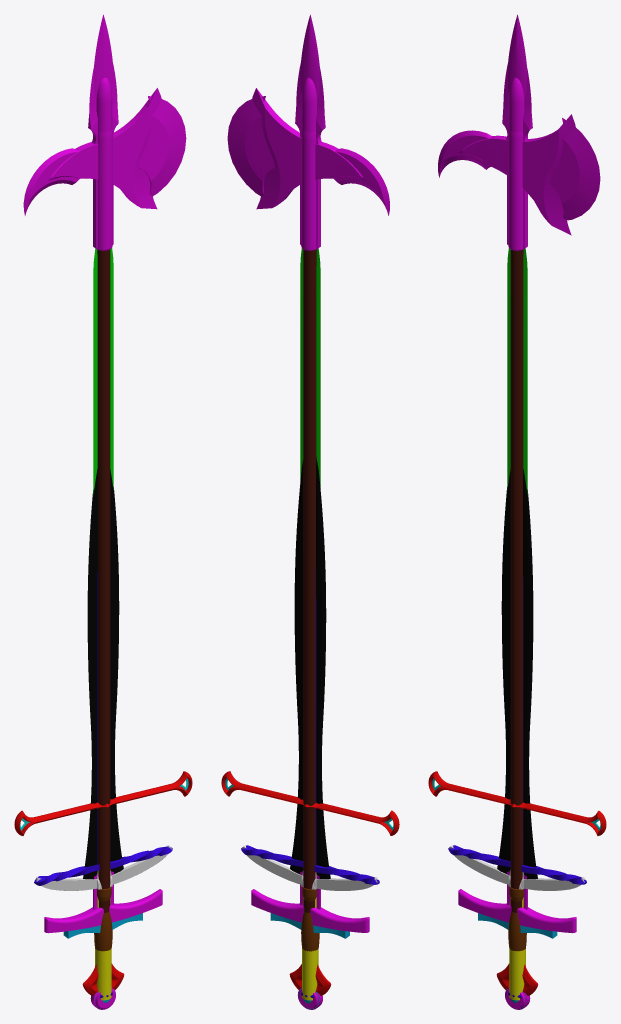
Rendered from Weapons.fbx.
3 renders of one model, left to right at view 1: azimuth 30°, elevation 25°; view 2: azimuth 150°, elevation 25°; view 3: azimuth 330°, elevation 25°, orthographic.
Parts seen in each view (by area): view 1: Halberd02, Sword05, Halberd01, Sword02, Sword03, Sword04, Sword01; view 2: Halberd02, Sword05, Halberd01, Sword02, Sword03, Sword04, Sword01; view 3: Halberd02, Sword05, Halberd01, Sword02, Sword03, Sword04, Sword01.
Part boxes in pixels (x1,y1,x2,y2): Halberd02: (23, 62, 186, 1000); Sword05: (36, 469, 172, 951); Halberd01: (48, 14, 161, 209); Sword02: (14, 248, 192, 995); Sword03: (44, 871, 162, 1009); Sword04: (34, 571, 172, 997); Sword01: (63, 913, 142, 1009); Halberd02: (227, 63, 389, 1000); Sword05: (242, 458, 378, 951); Halberd01: (252, 14, 365, 209); Sword02: (221, 248, 399, 995); Sword03: (251, 871, 369, 1009); Sword04: (241, 456, 379, 997); Sword01: (270, 913, 349, 1009); Halberd02: (438, 62, 600, 1000); Sword05: (449, 469, 585, 951); Halberd01: (459, 14, 575, 235); Sword02: (428, 248, 606, 995); Sword03: (458, 871, 576, 1009); Sword04: (448, 577, 586, 997); Sword01: (478, 913, 557, 1008).
Bounding box in the file's own units: 46.05 × 247 × 4.24.
